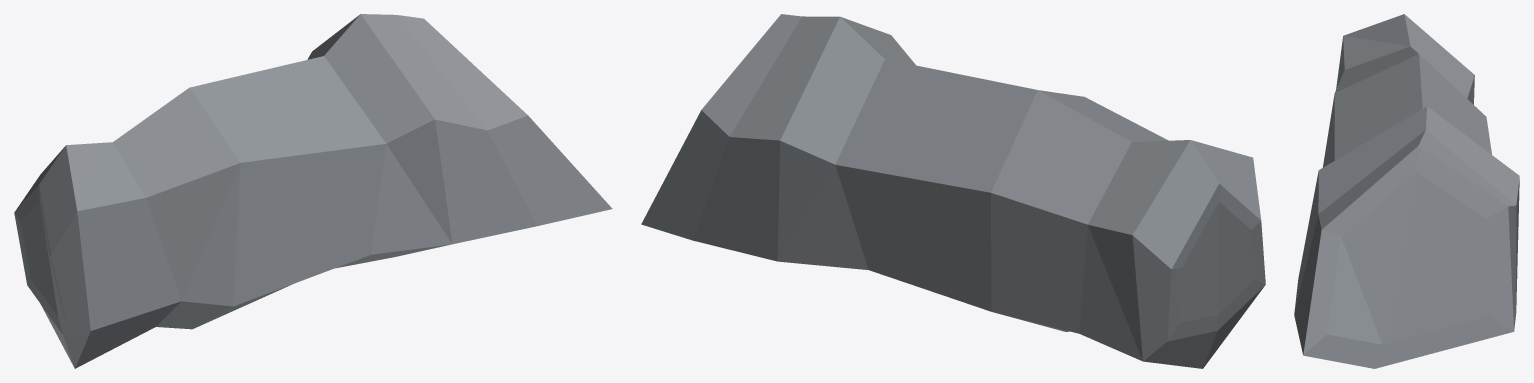
File: Chr_ArmUpperRight_Female_14_Static.fbx
3 renders of one model, left to right at view 1: azimuth 30°, elevation 25°; view 2: azimuth 150°, elevation 25°; view 3: azimuth 270°, elevation 25°, orthographic. The views are drawn at different scales.
Visible parts, largest first — view 1: Chr_ArmUpperRight_Female_14_Static; view 2: Chr_ArmUpperRight_Female_14_Static; view 3: Chr_ArmUpperRight_Female_14_Static.
Part boxes in pixels (<box>): Chr_ArmUpperRight_Female_14_Static: <box>14,14,612,368</box>; Chr_ArmUpperRight_Female_14_Static: <box>641,14,1265,368</box>; Chr_ArmUpperRight_Female_14_Static: <box>1294,14,1519,368</box>.
Size of the model in its own units: 0.3535 by 0.1677 by 0.1455.
